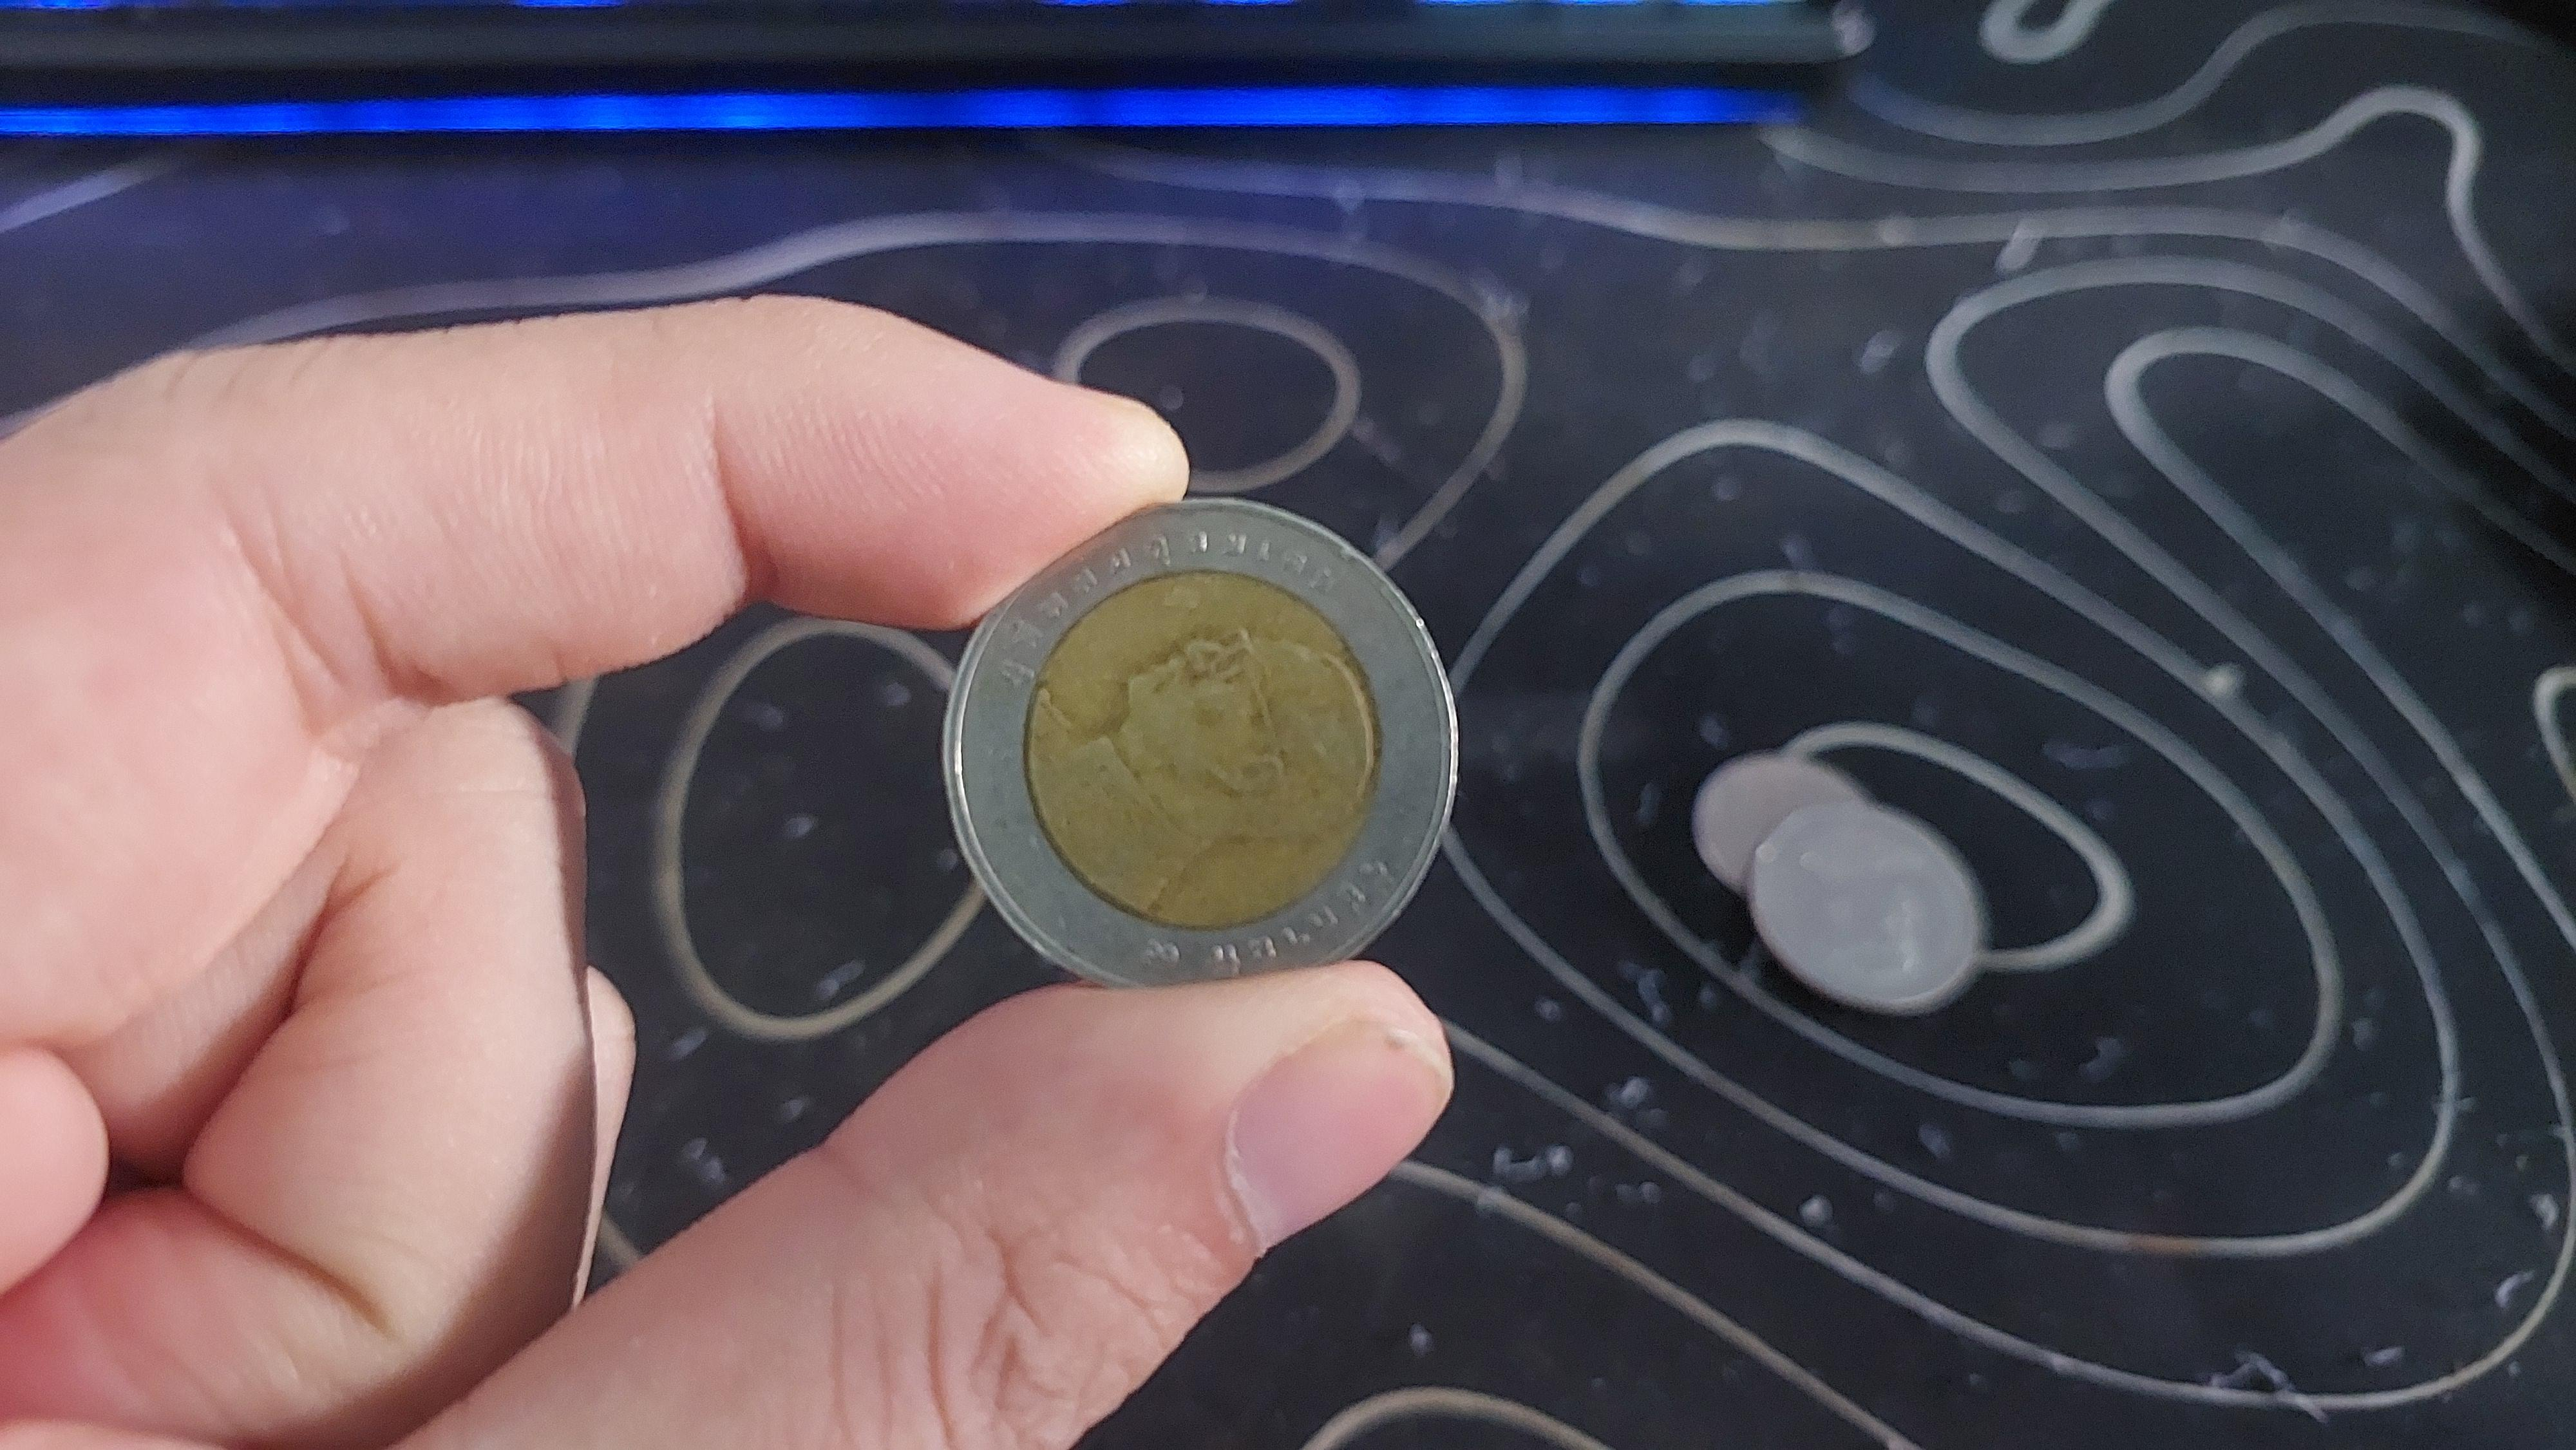10baht: (915, 444, 1516, 1022)
